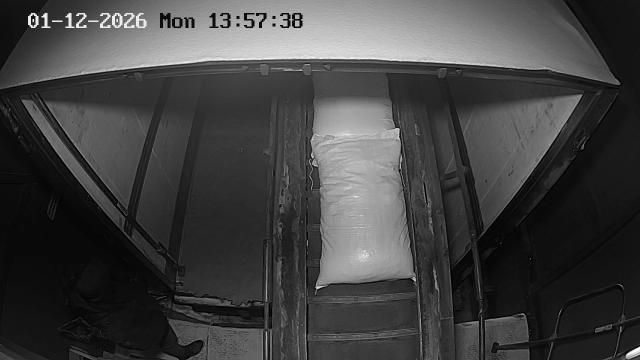bag: (312, 129, 414, 288), (312, 72, 403, 167)
